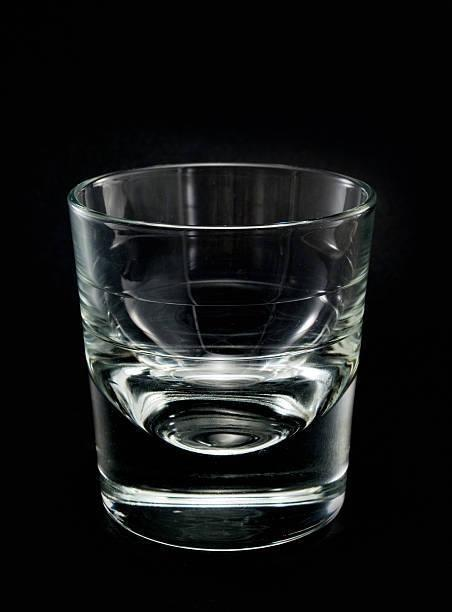glass-normal: (63, 160, 380, 554)
